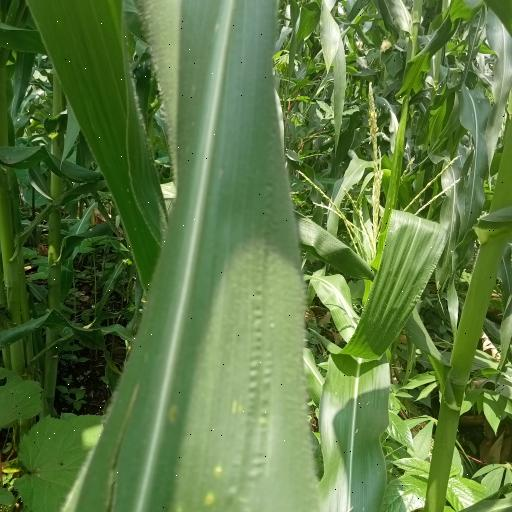Corn_Brown_Spots: (100, 0, 326, 506)
